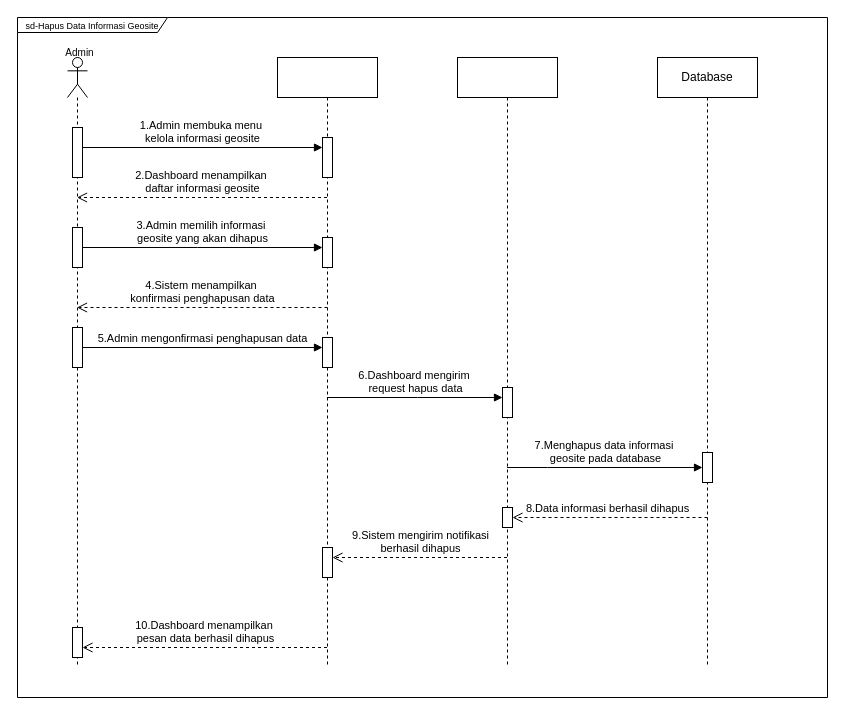
The diagram is 845 pixels wide and 715 high, and some of its shapes have lost their labels. The shapes that lost their labels are listed below. From the top down, each one's centre as x and y in pixels, then its label:
At point 327,362: "Dashboard Admin".
At point 507,362: "AdminController".
